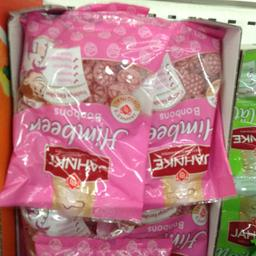candy: (12, 12, 166, 222), (134, 20, 236, 204)
